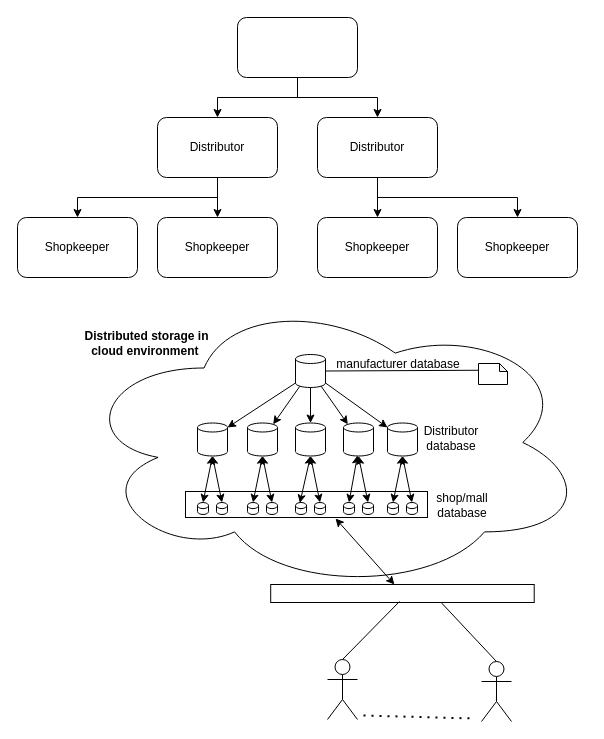
The diagram is 604 pixels wide and 739 high, and some of its shapes have lost their labels. The centre of each missing label's shape, as x and y in pixels:
"api" belongs at point (493, 373).
"Manufacturers" belongs at point (297, 47).
"product details display board per shop / mall" belongs at point (402, 593).
